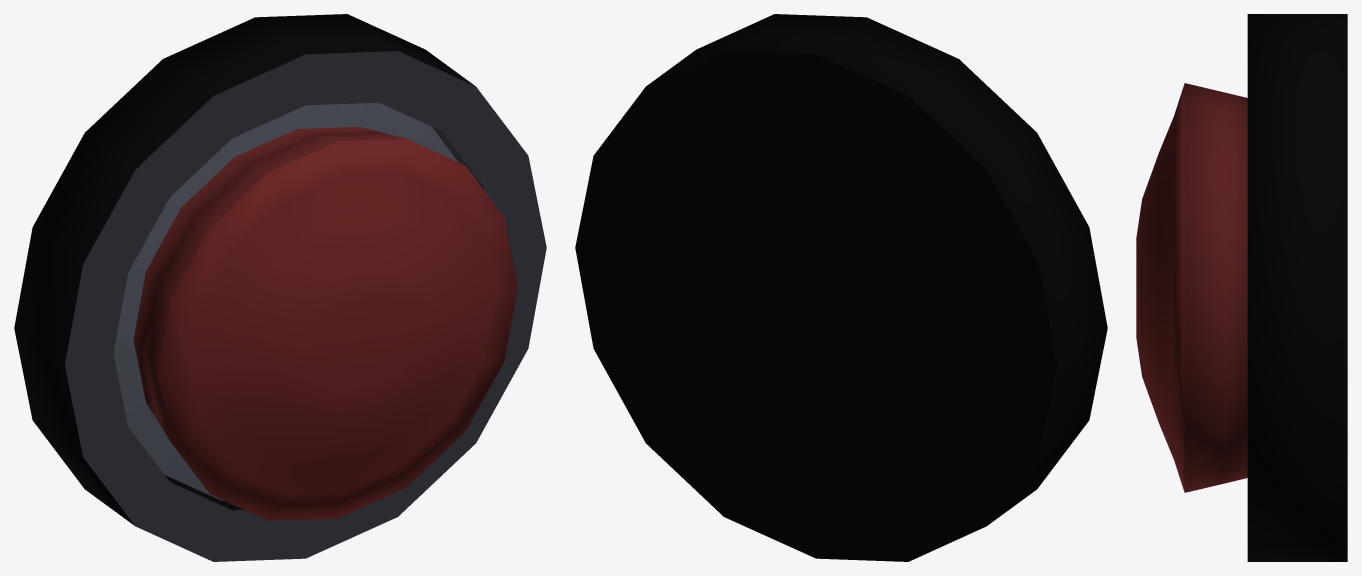
File: Button.fbx
3 views of the same model, side by side, from view 1: azimuth 30°, elevation 25°; view 2: azimuth 150°, elevation 25°; view 3: azimuth 270°, elevation 25° (orthographic).
Visible parts, largest first — view 1: Cylinder; view 2: Cylinder; view 3: Cylinder.
Part boxes in pixels (x1,y1,x2,y2): Cylinder: (14,14,546,561); Cylinder: (575,14,1107,561); Cylinder: (1136,14,1347,561).
Bounding box in the file's own units: 200 × 76.95 × 200.
